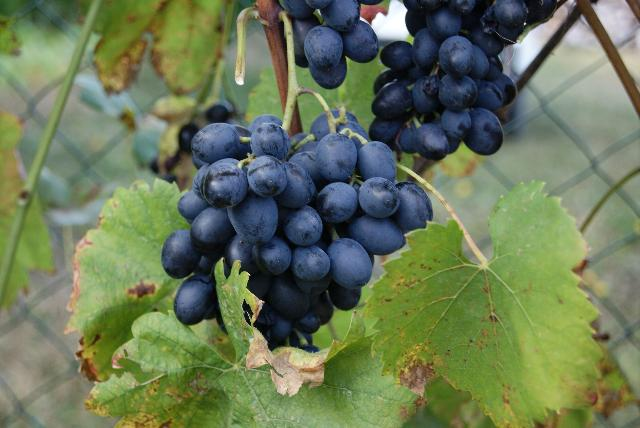grapes: (161, 115, 430, 351), (369, 0, 555, 161)
